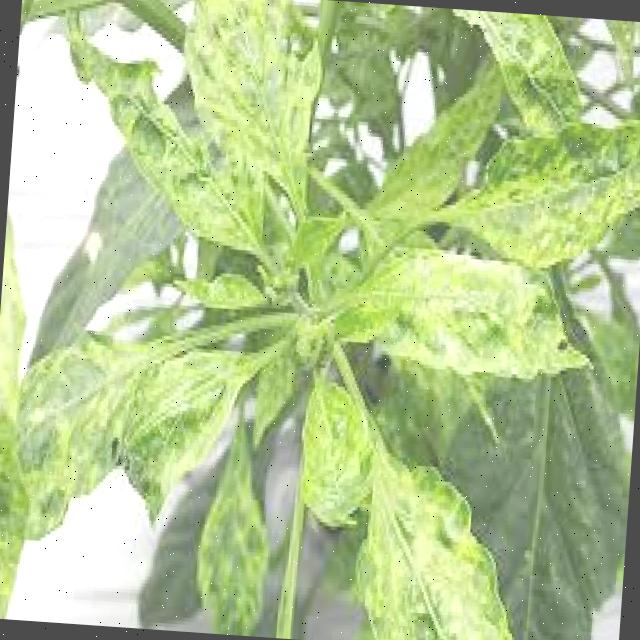leaf curl: (12, 0, 638, 640)
